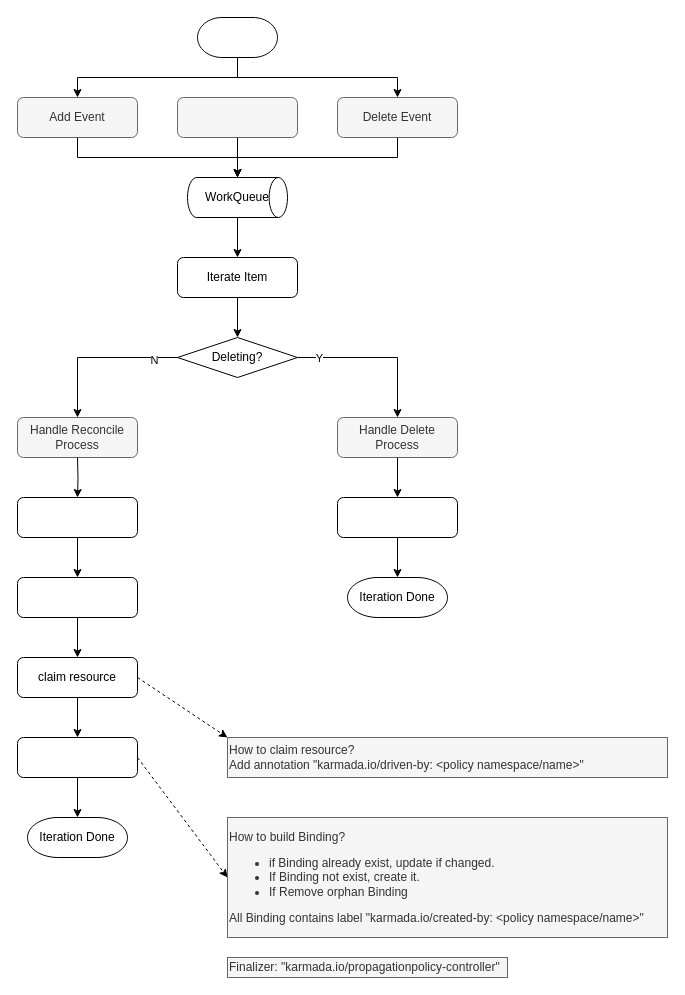
Some shapes in this 685 by 995 pixel diagram are drawn without their labels. Here are the shapes that lost their labels. From the top down, the box of each, then its label:
(196, 16, 278, 58): Informer
(176, 96, 298, 138): Update Event
(16, 496, 138, 538): load target resource
(336, 496, 458, 538): delete all Binding
(16, 576, 138, 618): ignore conflicts
(16, 736, 138, 778): build Binding
